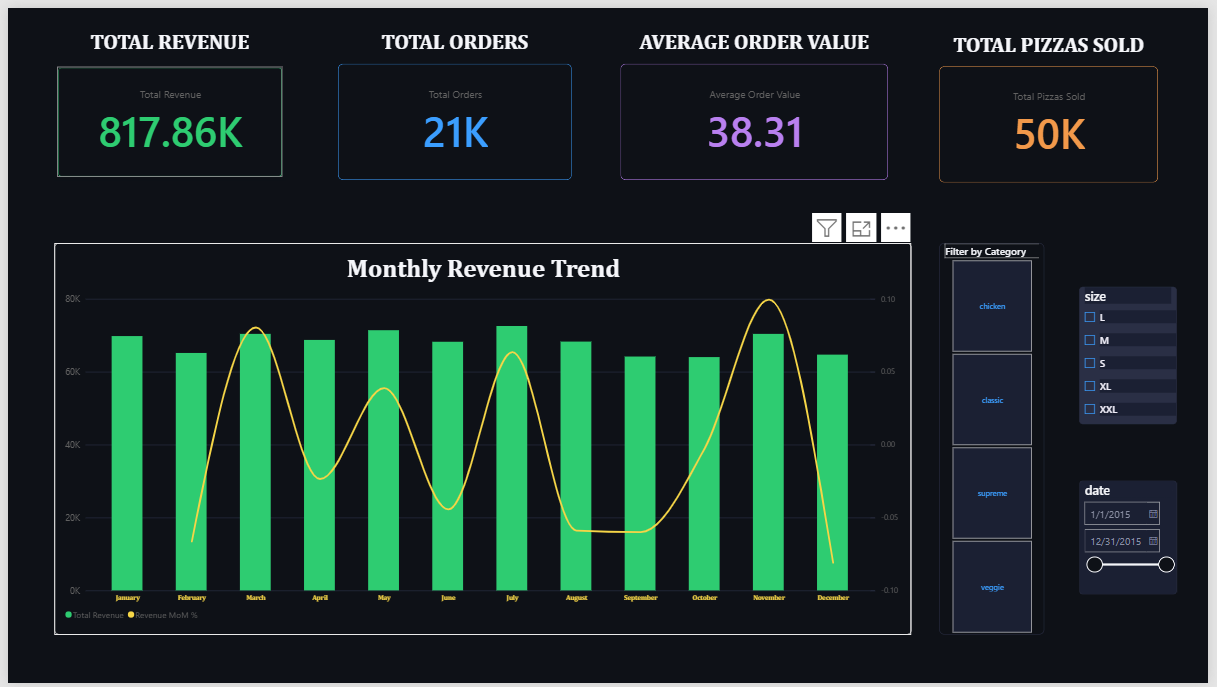

Layout of this report page (visuals, bound fields, positions):
{"tool":"powerbi","page":{"name":"Executive KPI","canvas":[1920,1080],"ordinal":0},"visuals":[{"type":"cardVisual","title":"TOTAL REVENUE","fields":{"Data":["_Measures.Total Revenue"]},"box":[74,34,370,242],"z":0},{"type":"cardVisual","title":"TOTAL ORDERS","fields":{"Data":["_Measures.Total Orders"]},"box":[528,34,374,242],"z":1000},{"type":"cardVisual","title":"TOTAL PIZZAS SOLD","fields":{"Data":["_Measures.Total Pizzas Sold"]},"box":[1490,38,350,242],"z":2000},{"type":"cardVisual","title":"AVERAGE ORDER VALUE","fields":{"Data":["_Measures.Average Order Value"]},"box":[980,34,428,242],"z":3000},{"type":"lineClusteredColumnComboChart","title":"Monthly Revenue Trend","fields":{"Category":["Dim_Date.month_name"],"Y":["_Measures.Total Revenue"],"Y2":["_Measures.Revenue MoM %"]},"box":[74,376,1372,626],"z":4000},{"type":"slicer","fields":{"Values":["Dim_Pizza.category"]},"box":[1490,376,168,626],"z":5000},{"type":"slicer","fields":{"Values":["Dim_Pizza.size"]},"box":[1714,446,156,220],"z":5001},{"type":"slicer","fields":{"Values":["Dim_Date.date"]},"box":[1714,756,156,182],"z":5003}]}

Visuals, with their boxes in screenshot pixels (x1, y1, x2, y2), scaled from the page's 1920x1080 canvas onto the 1217x687 screenshot:
"TOTAL REVENUE" cardVisual: [left=47, top=22, right=281, bottom=176]
"TOTAL ORDERS" cardVisual: [left=335, top=22, right=572, bottom=176]
"TOTAL PIZZAS SOLD" cardVisual: [left=944, top=24, right=1166, bottom=178]
"AVERAGE ORDER VALUE" cardVisual: [left=621, top=22, right=892, bottom=176]
"Monthly Revenue Trend" lineClusteredColumnComboChart: [left=47, top=239, right=917, bottom=637]
slicer - Dim_Pizza.category: [left=944, top=239, right=1051, bottom=637]
slicer - Dim_Pizza.size: [left=1086, top=284, right=1185, bottom=424]
slicer - Dim_Date.date: [left=1086, top=481, right=1185, bottom=597]
